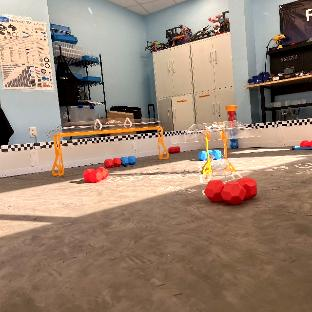Goal: (49, 117, 167, 176)
Med_goal: (181, 122, 261, 180)
V5_BLUE: (121, 156, 136, 164), (230, 138, 237, 148)
V5_RED: (205, 177, 257, 205), (84, 167, 107, 183), (104, 158, 121, 167), (169, 146, 179, 152), (300, 141, 312, 146)
